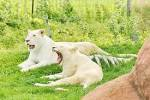lion: (23, 29, 99, 67), (50, 43, 102, 91)
